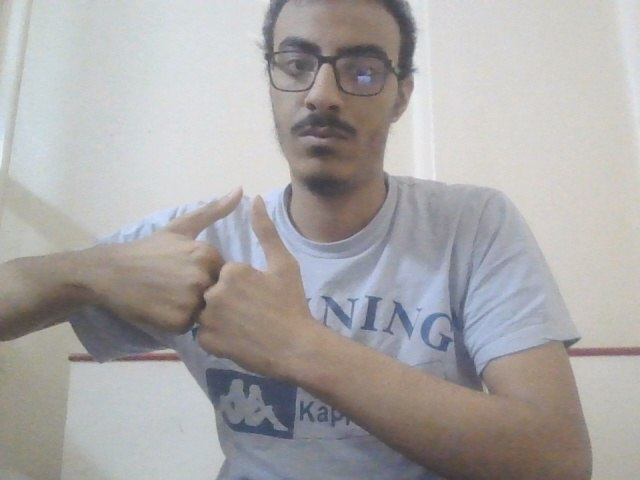Game: (99, 184, 323, 392)
